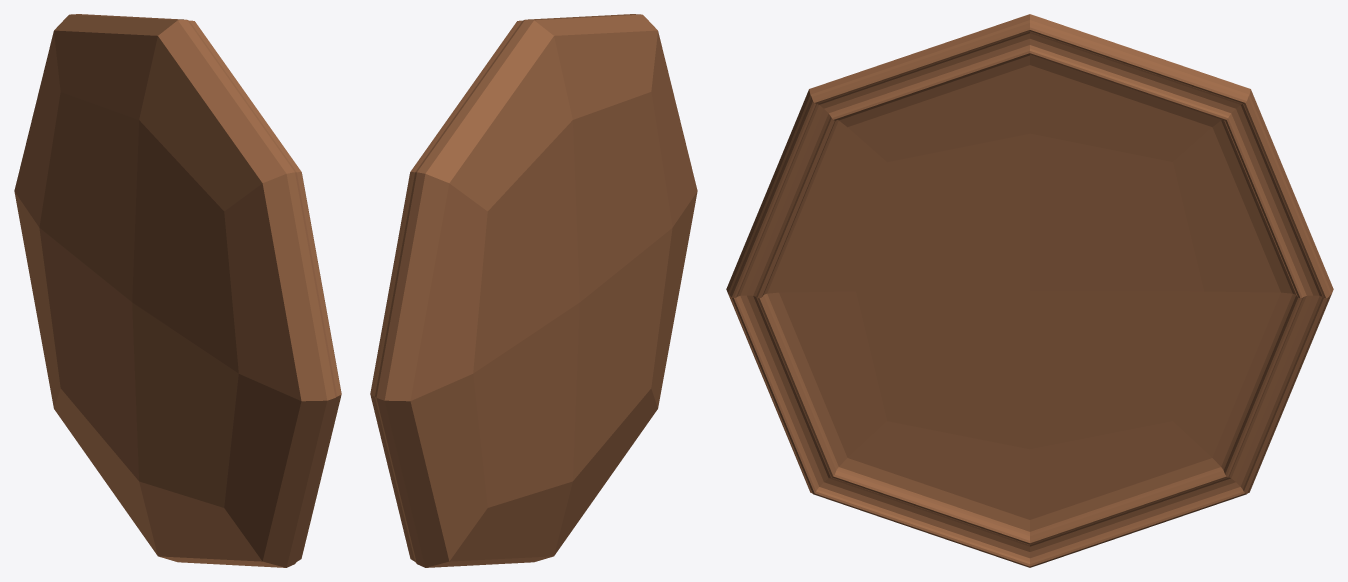
Rendered from Photo Frame.fbx.
3 views of the same model, side by side, from view 1: azimuth 30°, elevation 25°; view 2: azimuth 150°, elevation 25°; view 3: azimuth 270°, elevation 25° (orthographic).
Parts seen in each view (by area): view 1: Cube; view 2: Cube; view 3: Cube.
Boxes of the visible parts, <box> form: Cube: <box>14,14,341,567</box>; Cube: <box>370,14,697,567</box>; Cube: <box>726,14,1333,567</box>.
Size of the model in its own units: 8.47 by 68.89 by 68.89.
